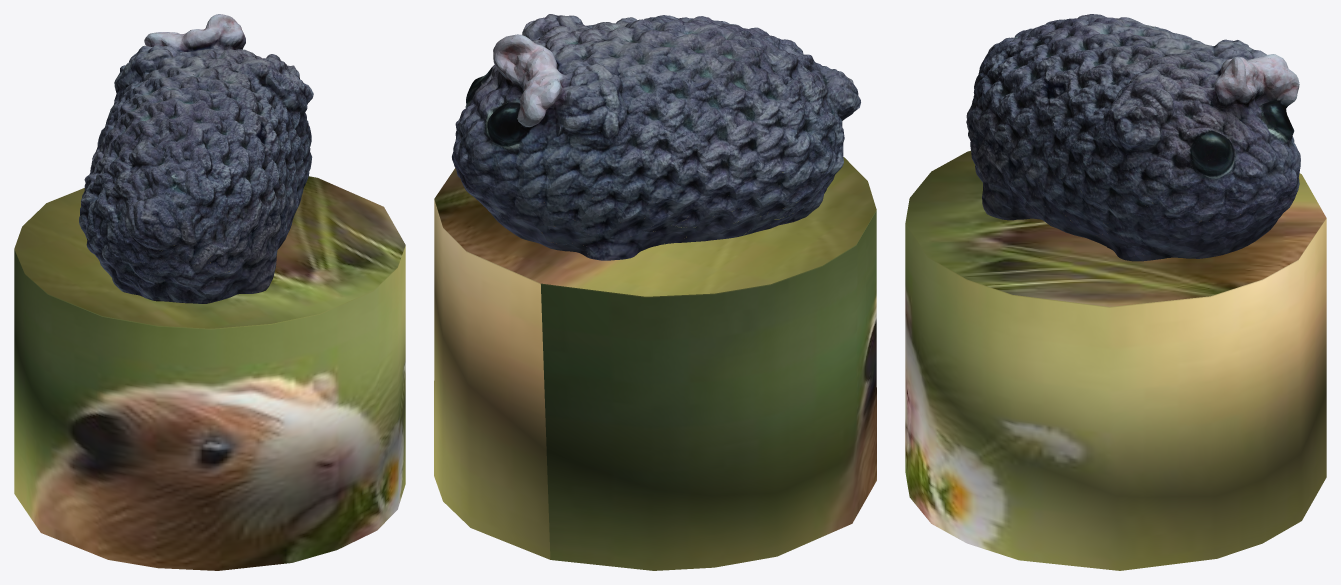
File: asset.glb
3 renders of one model, left to right at view 1: azimuth 30°, elevation 25°; view 2: azimuth 150°, elevation 25°; view 3: azimuth 270°, elevation 25°, orthographic. The views are drawn at different scales.
Parts seen in each view (by area): view 1: Cylinder, Mesh_0.005; view 2: Cylinder, Mesh_0.005; view 3: Cylinder, Mesh_0.005.
Part boxes in pixels (bbox=[...]): Cylinder: bbox=[14, 176, 405, 570]; Mesh_0.005: bbox=[79, 14, 313, 303]; Cylinder: bbox=[434, 157, 876, 570]; Mesh_0.005: bbox=[452, 14, 860, 260]; Cylinder: bbox=[905, 150, 1326, 570]; Mesh_0.005: bbox=[966, 14, 1300, 261].
Size of the model in its own units: 1.19 by 1.39 by 1.16.
Materials: 2 (2 with a texture image).
